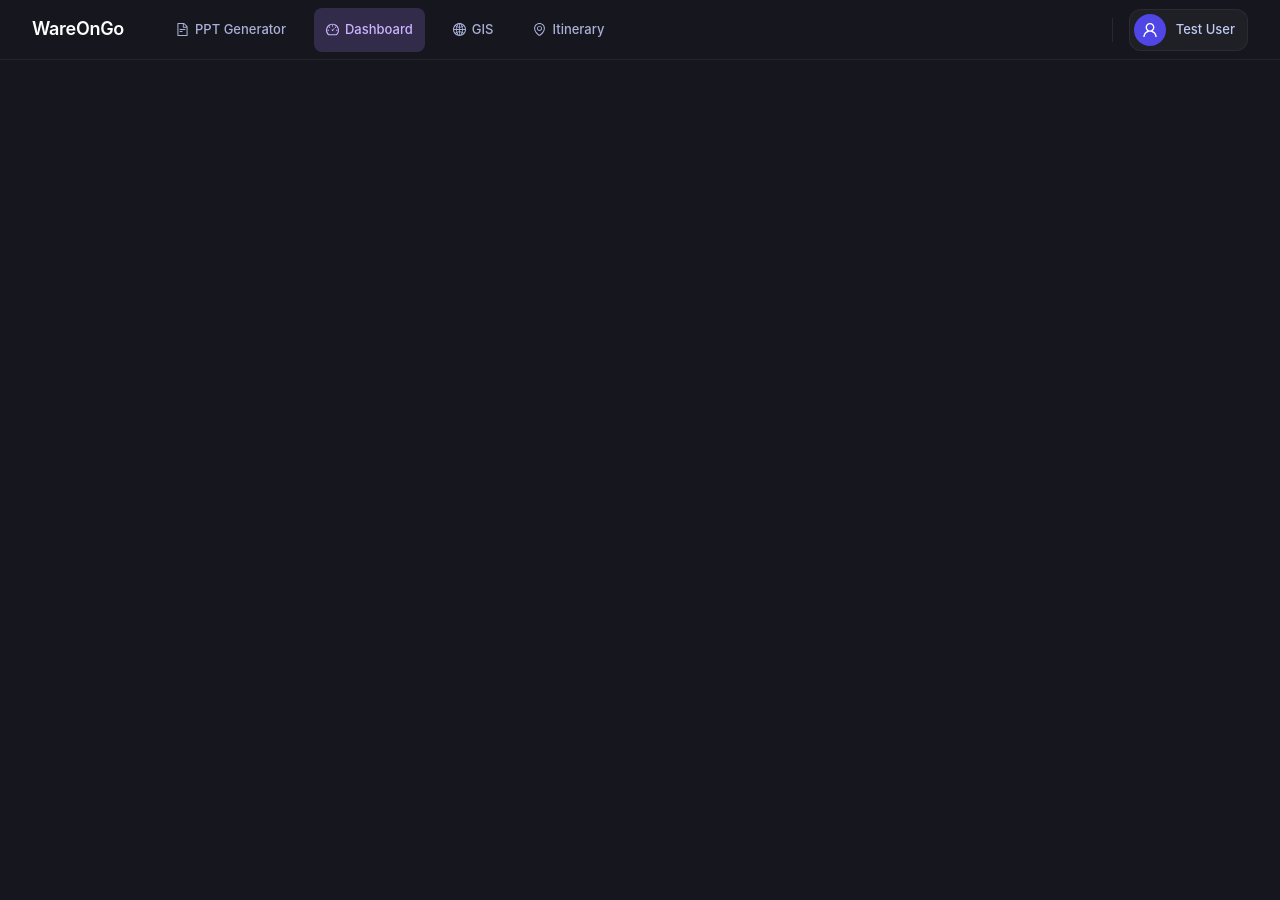
Test case: itinerary reason flow › fetches every number under the one reason and shows the itinerary
Click the link "Itinerary".
click(569, 29)  # box [534,21,604,37]
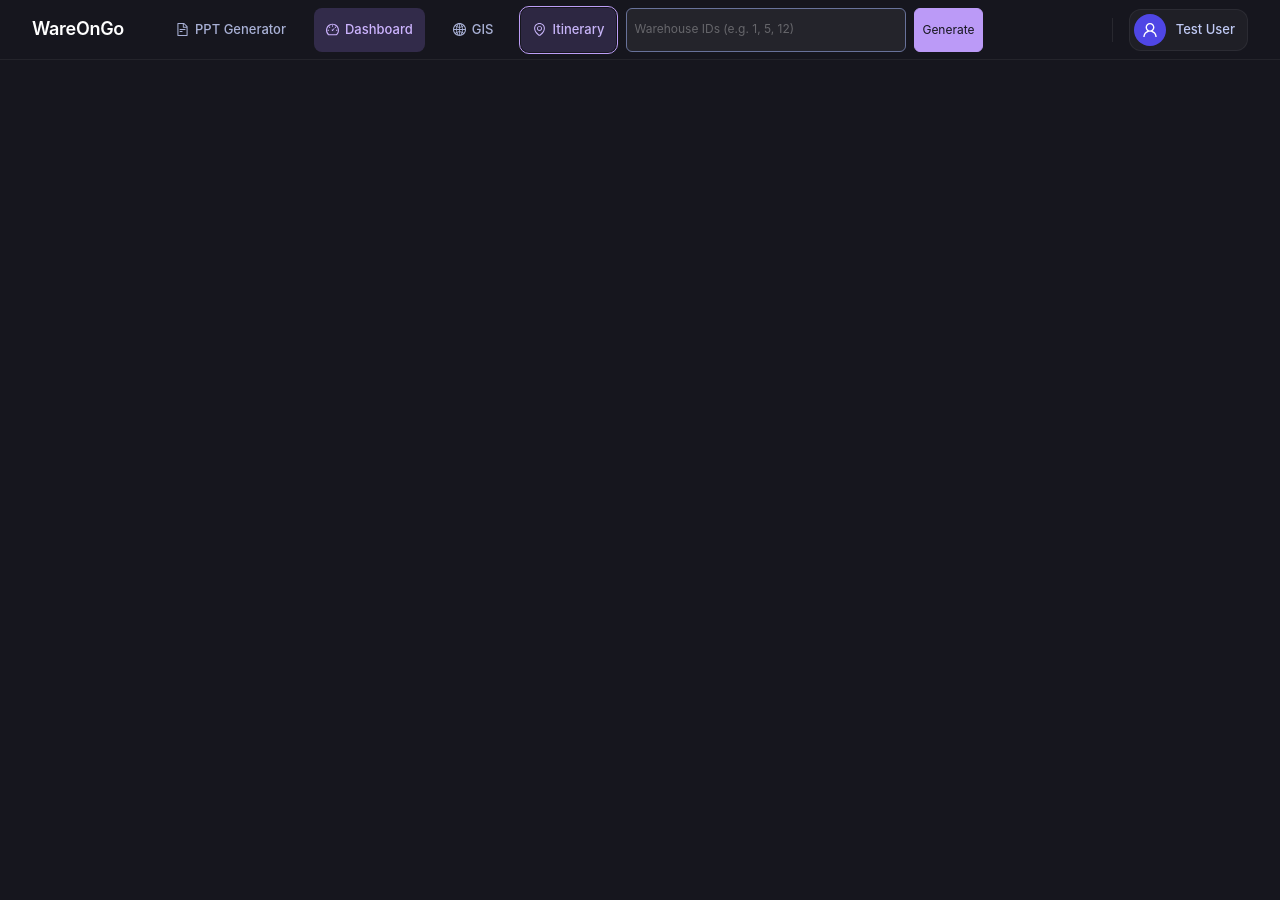
Type "1, 5, 12" into the field with placeholder "Warehouse IDs (e.g. 1, 5, 12)".
click(766, 30); type("1, 5, 12")  # box [626,8,906,52]
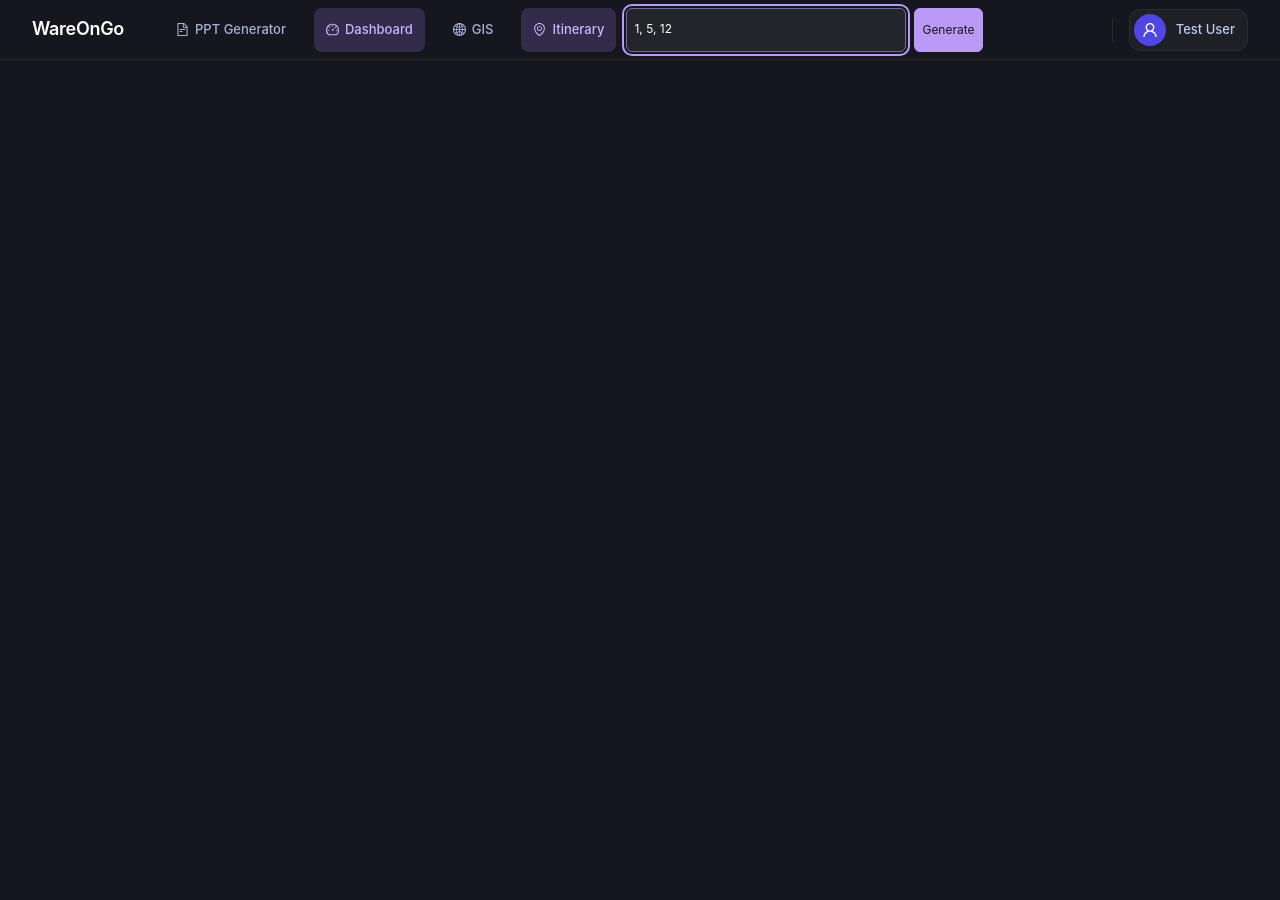
Click the button "Generate".
click(948, 30)  # box [914,8,982,52]
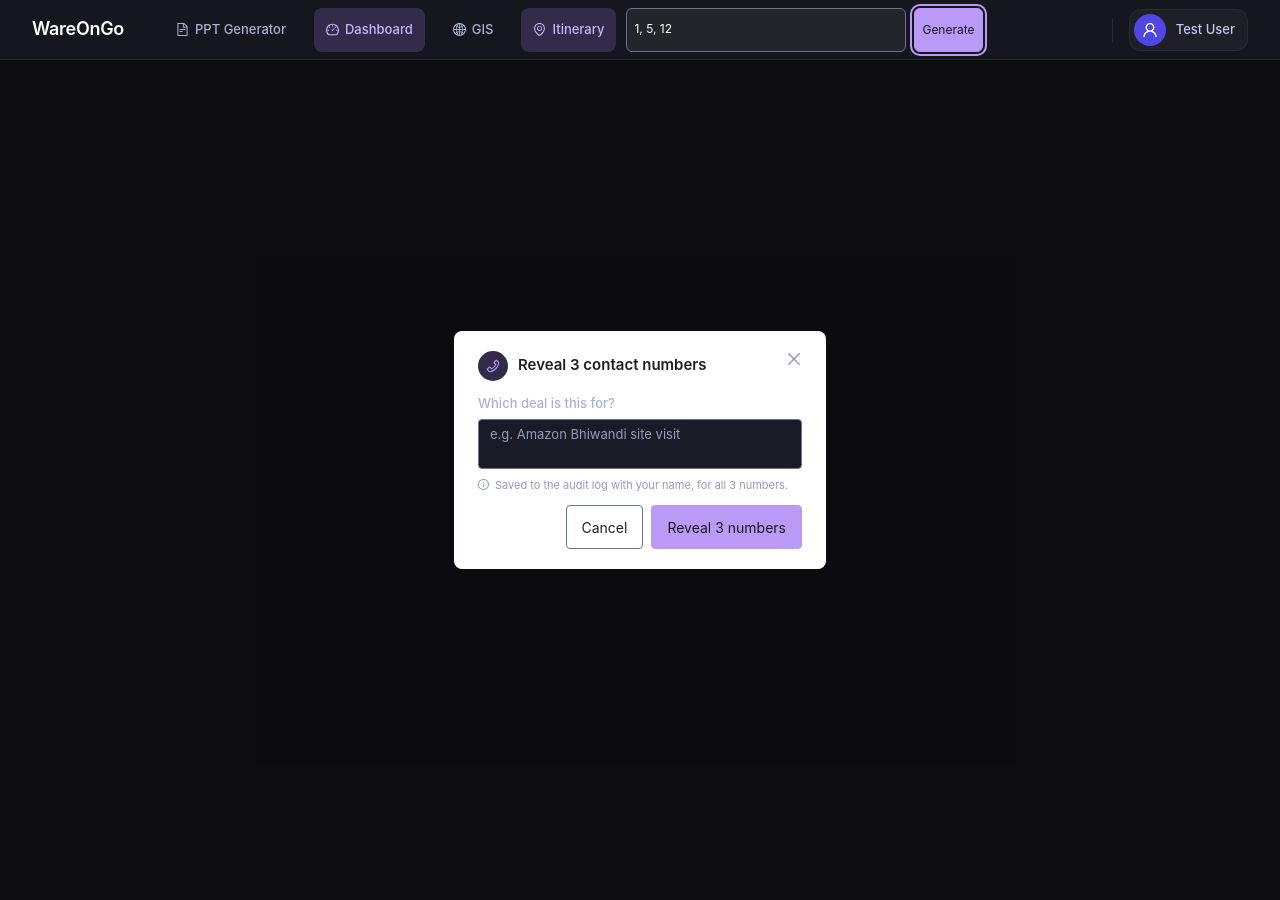
Click the text box named "Reason for revealing".
click(640, 444)  # box [478,419,802,469]
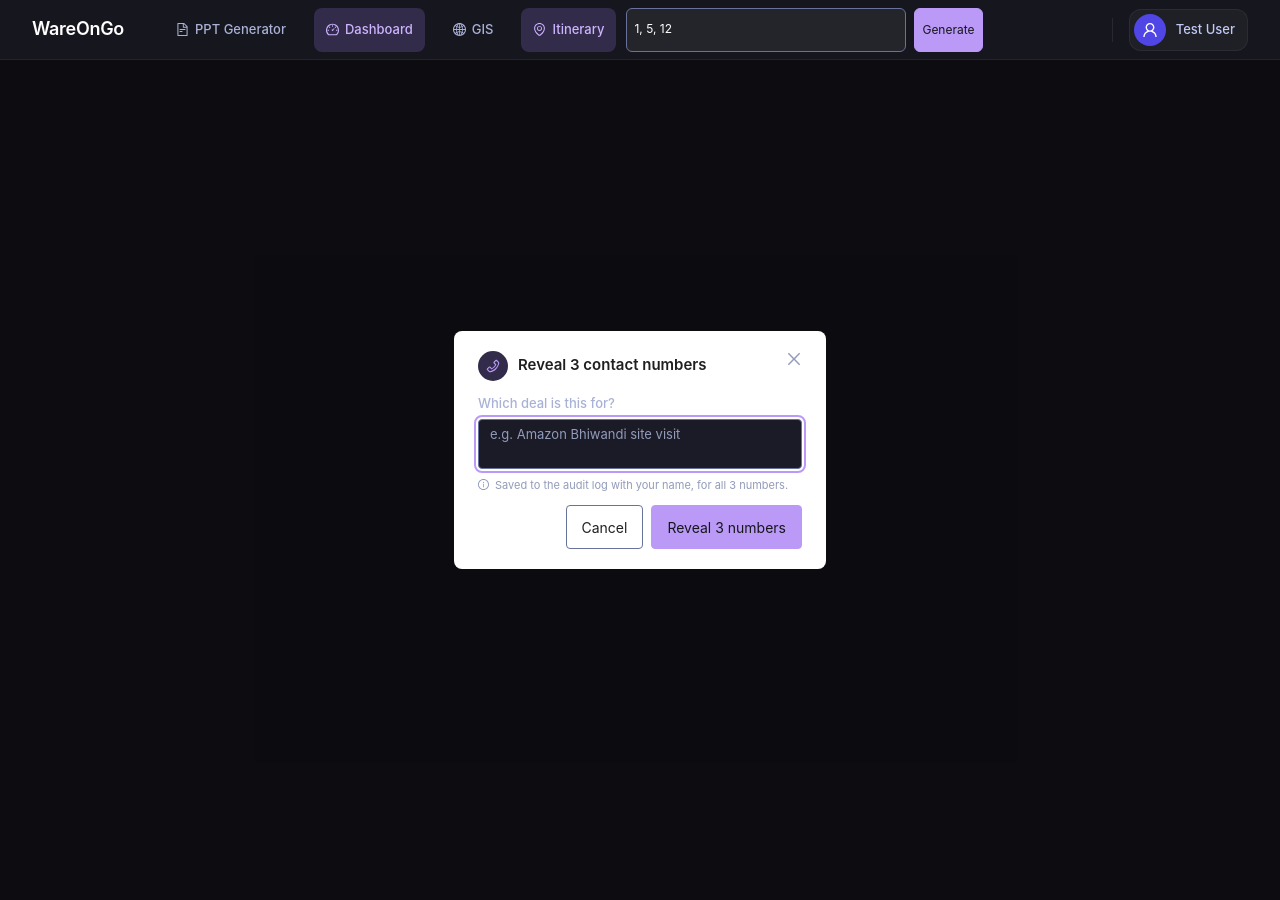
Type keys "Flipkart Bhiwandi site visit"
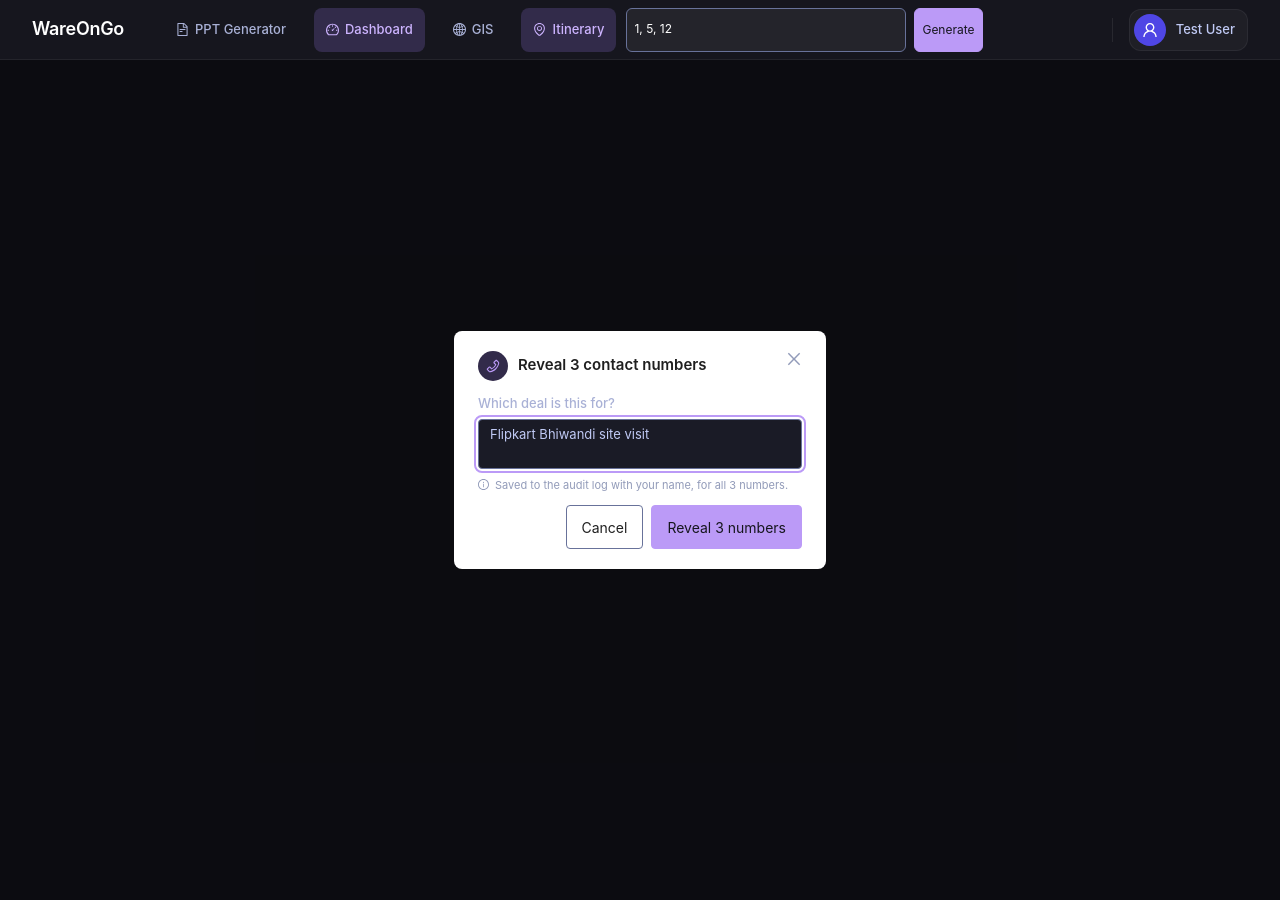
Click the button "Reveal 3 numbers".
click(727, 528)  # box [651,506,802,550]
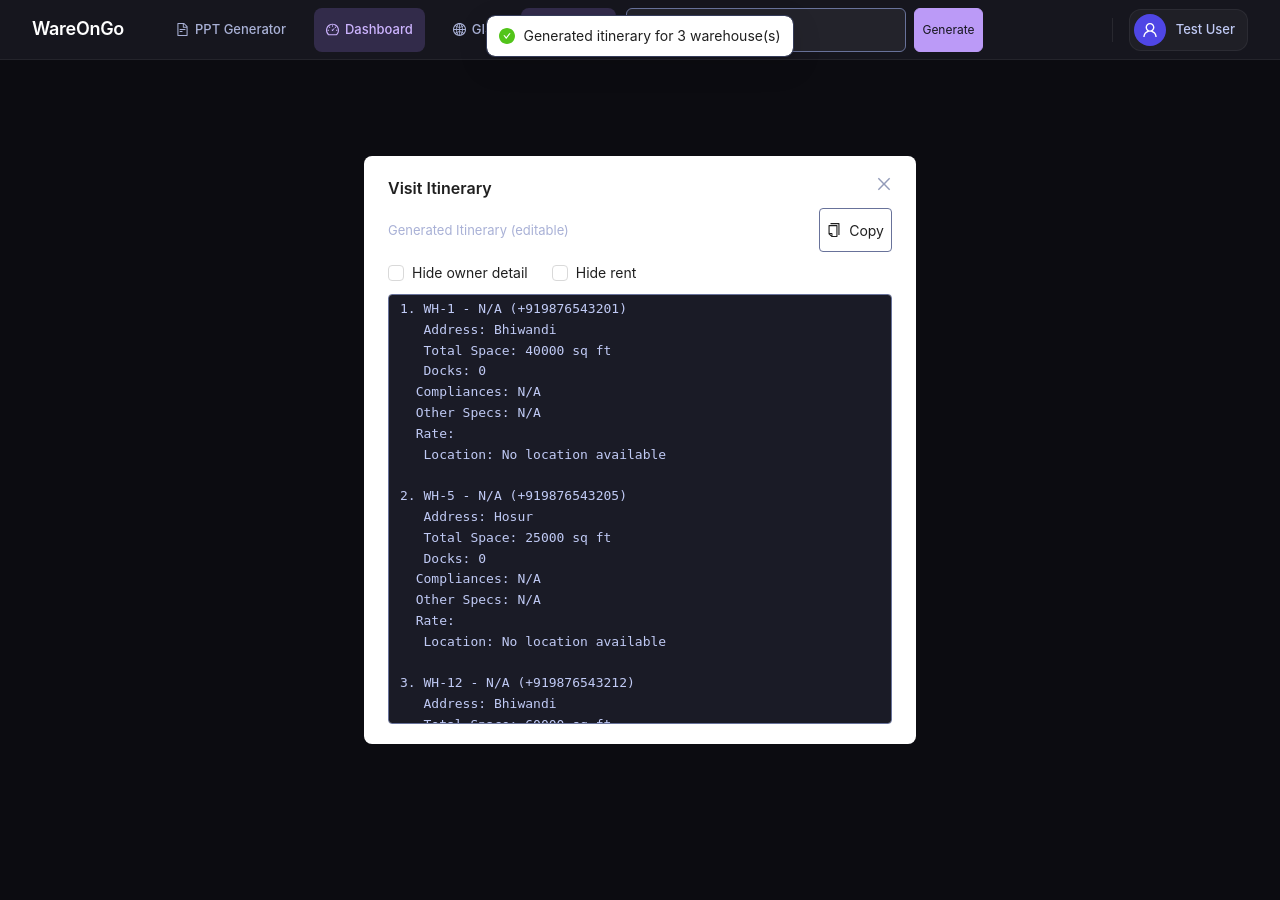
Expected: the text "Visit Itinerary" is shown, [388,178,492,198]
Expected: the text box showing "+919876543201" is shown, [388,294,892,724]
